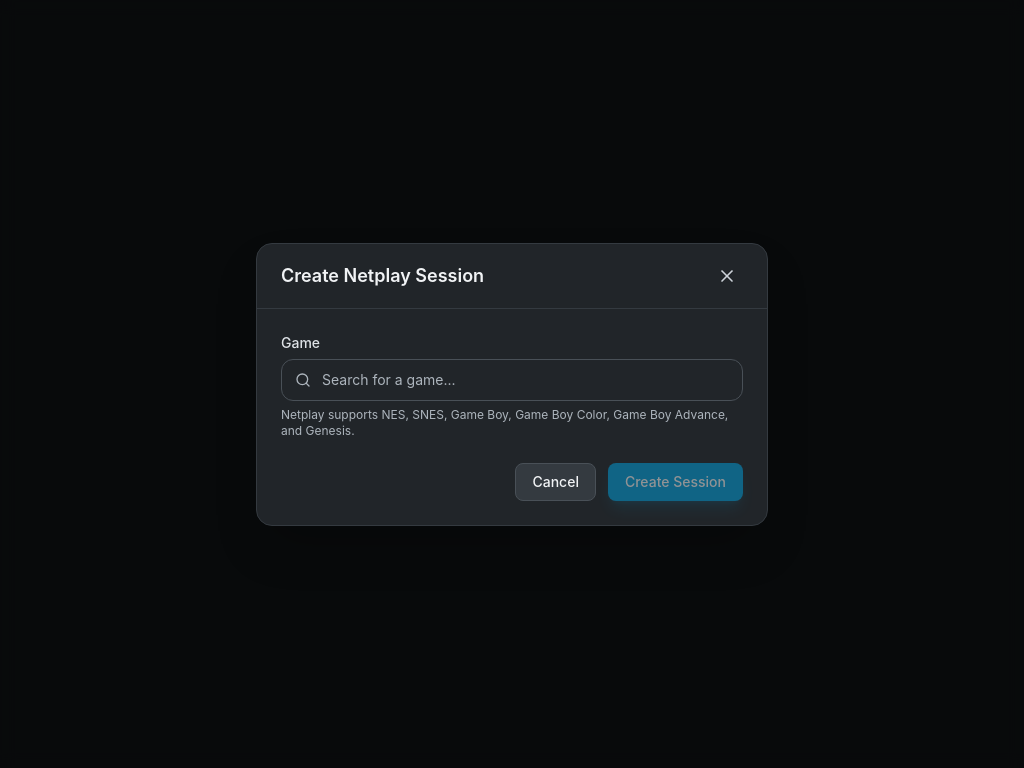
Test case: NetplayCreateModal › shows game search results when typing
In the search field with placeholder "Search for a game...": (512, 380) [281,358,743,400], type "Mario"
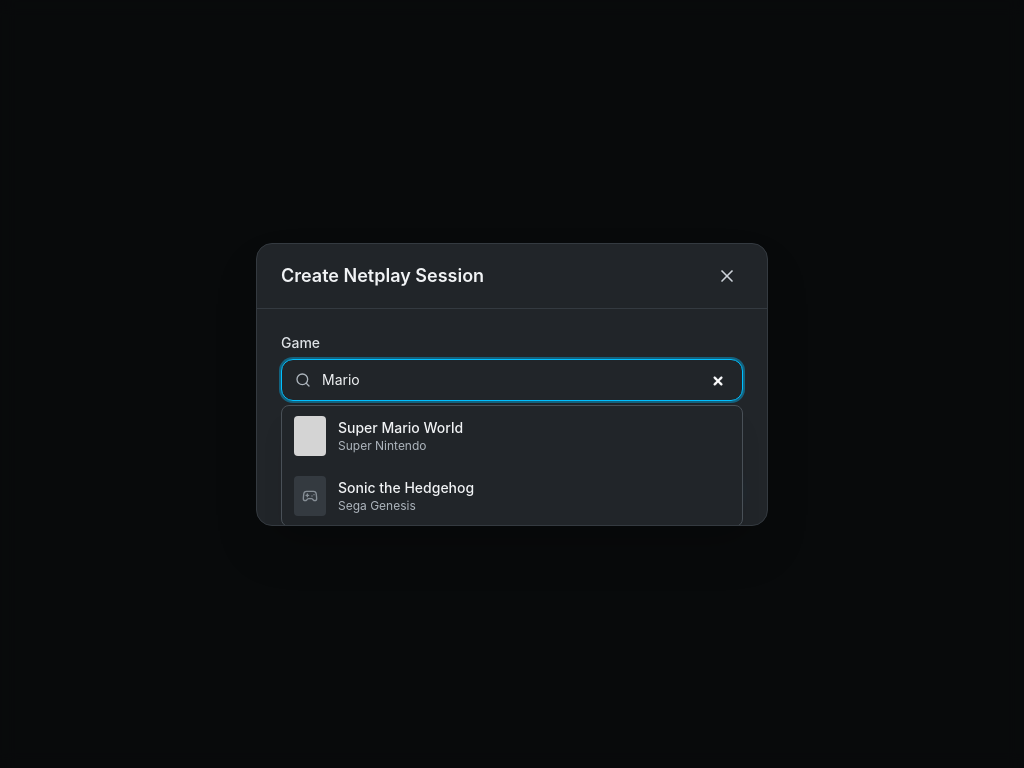
Expected: the text "Super Mario World" is shown, [338,418,463,438]
Expected: the text "Sonic the Hedgehog" is shown, [338,478,474,498]
